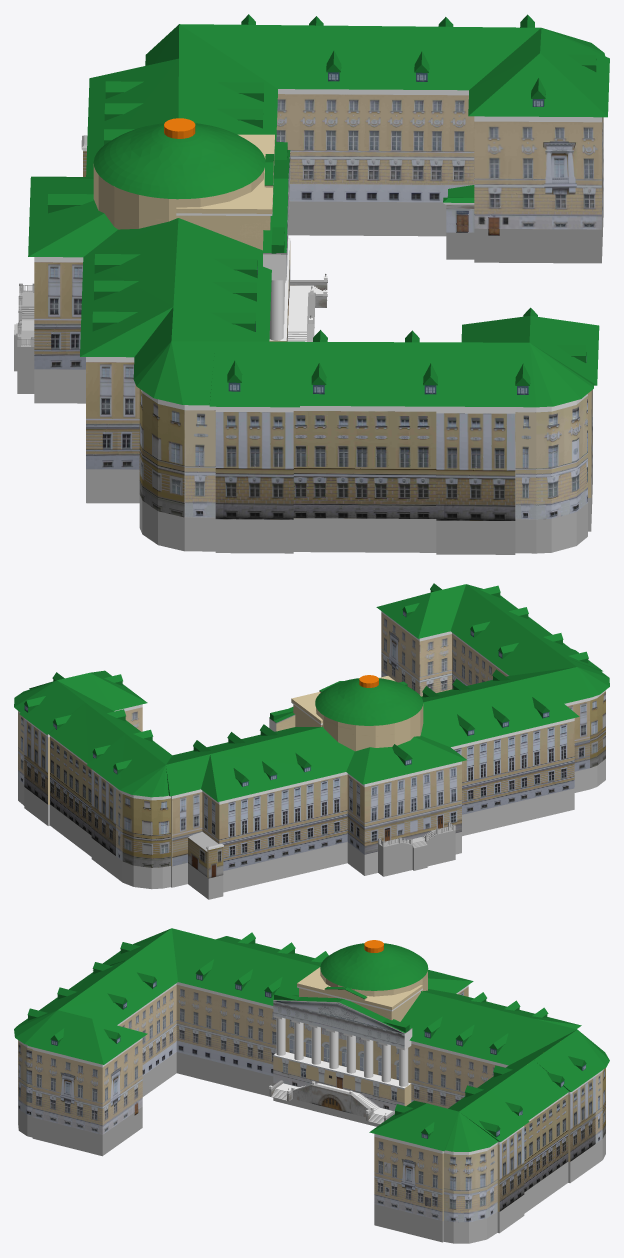
The picture shows the model from 3 angles, top to bottom: view 1: azimuth 30°, elevation 25°; view 2: azimuth 150°, elevation 25°; view 3: azimuth 270°, elevation 25°; orthographic projection. The views are drawn at different scales.
Parts seen in each view (by area): view 1: Group_015, Group_262, Group_435, Group_424, Group_423, Group_421, Group_430, Group_469, Group_422, Group_438, Group_004, Group_431 (+11 smaller); view 2: Group_015, Group_427, Group_262, Group_428, Group_469, Group_432, Group_424, Group_004, Group_423, Group_083, Group_468, Group_436 (+13 smaller); view 3: Group_015, Group_425, Group_262, Group_470, Group_440, Group_469, Group_424, Group_423, Group_439, Group_452, Group_436, Group_435 (+17 smaller).
Part boxes in pixels (box(x1,y1,x2,y2)): Group_015: box(80, 24, 609, 407); Group_262: box(34, 184, 603, 553); Group_435: box(276, 94, 474, 202); Group_424: box(215, 412, 515, 520); Group_423: box(293, 411, 436, 518); Group_421: box(474, 121, 601, 229); Group_430: box(34, 262, 139, 469); Group_469: box(93, 123, 265, 199); Group_422: box(184, 410, 536, 519); Group_438: box(536, 396, 587, 519); Group_004: box(28, 176, 117, 257); Group_431: box(139, 389, 184, 517); Group_015: box(14, 584, 609, 801); Group_427: box(219, 721, 574, 871); Group_262: box(18, 759, 605, 892); Group_428: box(364, 764, 461, 854); Group_469: box(315, 678, 423, 725); Group_432: box(122, 794, 170, 867); Group_424: box(24, 719, 115, 855); Group_004: box(346, 735, 466, 784); Group_423: box(50, 737, 91, 835); Group_083: box(18, 611, 605, 804); Group_468: box(316, 704, 423, 751); Group_436: box(381, 613, 419, 694); Group_015: box(14, 928, 609, 1151); Group_425: box(176, 985, 505, 1108); Group_262: box(18, 1052, 605, 1243); Group_470: box(32, 1050, 102, 1134); Group_440: box(374, 1136, 442, 1220); Group_469: box(320, 943, 428, 990); Group_424: box(499, 1077, 595, 1211); Group_423: box(524, 1094, 568, 1192); Group_439: box(443, 1151, 486, 1222); Group_452: box(273, 1055, 404, 1110); Group_436: box(102, 1039, 142, 1134); Group_435: box(119, 985, 176, 1075).
Bounding box in the file's own units: 106 × 34.71 × 124.
Materials: 61 (32 with a texture image).
